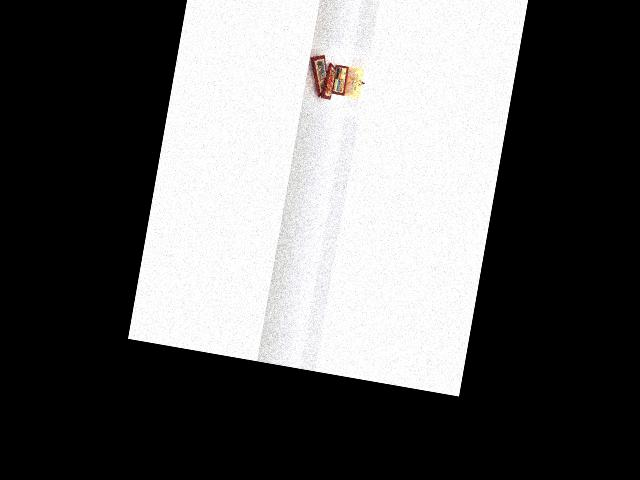chocolate: (300, 43, 334, 100)
